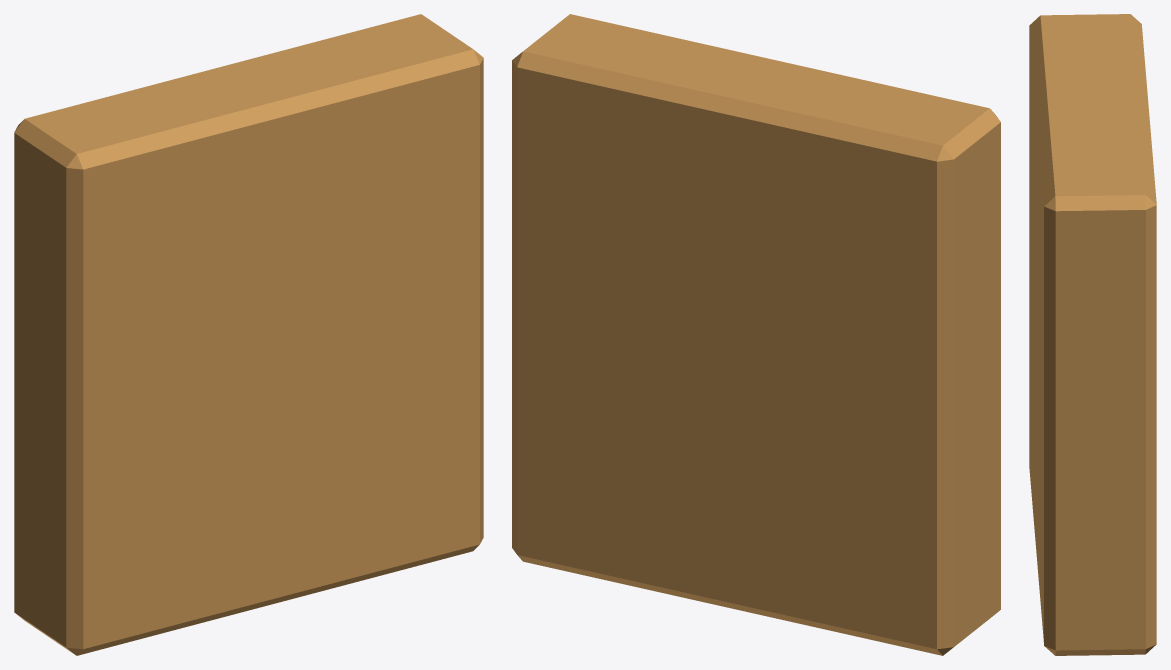
File: Sector1_Gold_1.fbx
3 renders of one model, left to right at view 1: azimuth 30°, elevation 25°; view 2: azimuth 150°, elevation 25°; view 3: azimuth 270°, elevation 25°, orthographic. The views are drawn at different scales.
Parts seen in each view (by area): view 1: Sector1_Gold_1; view 2: Sector1_Gold_1; view 3: Sector1_Gold_1.
Boxes of the visible parts, x1=… form: Sector1_Gold_1: x1=14, y1=14, x2=483, y2=655; Sector1_Gold_1: x1=512, y1=14, x2=1000, y2=655; Sector1_Gold_1: x1=1029, y1=14, x2=1156, y2=655.
Size of the model in its own units: 805 by 900 by 226.
